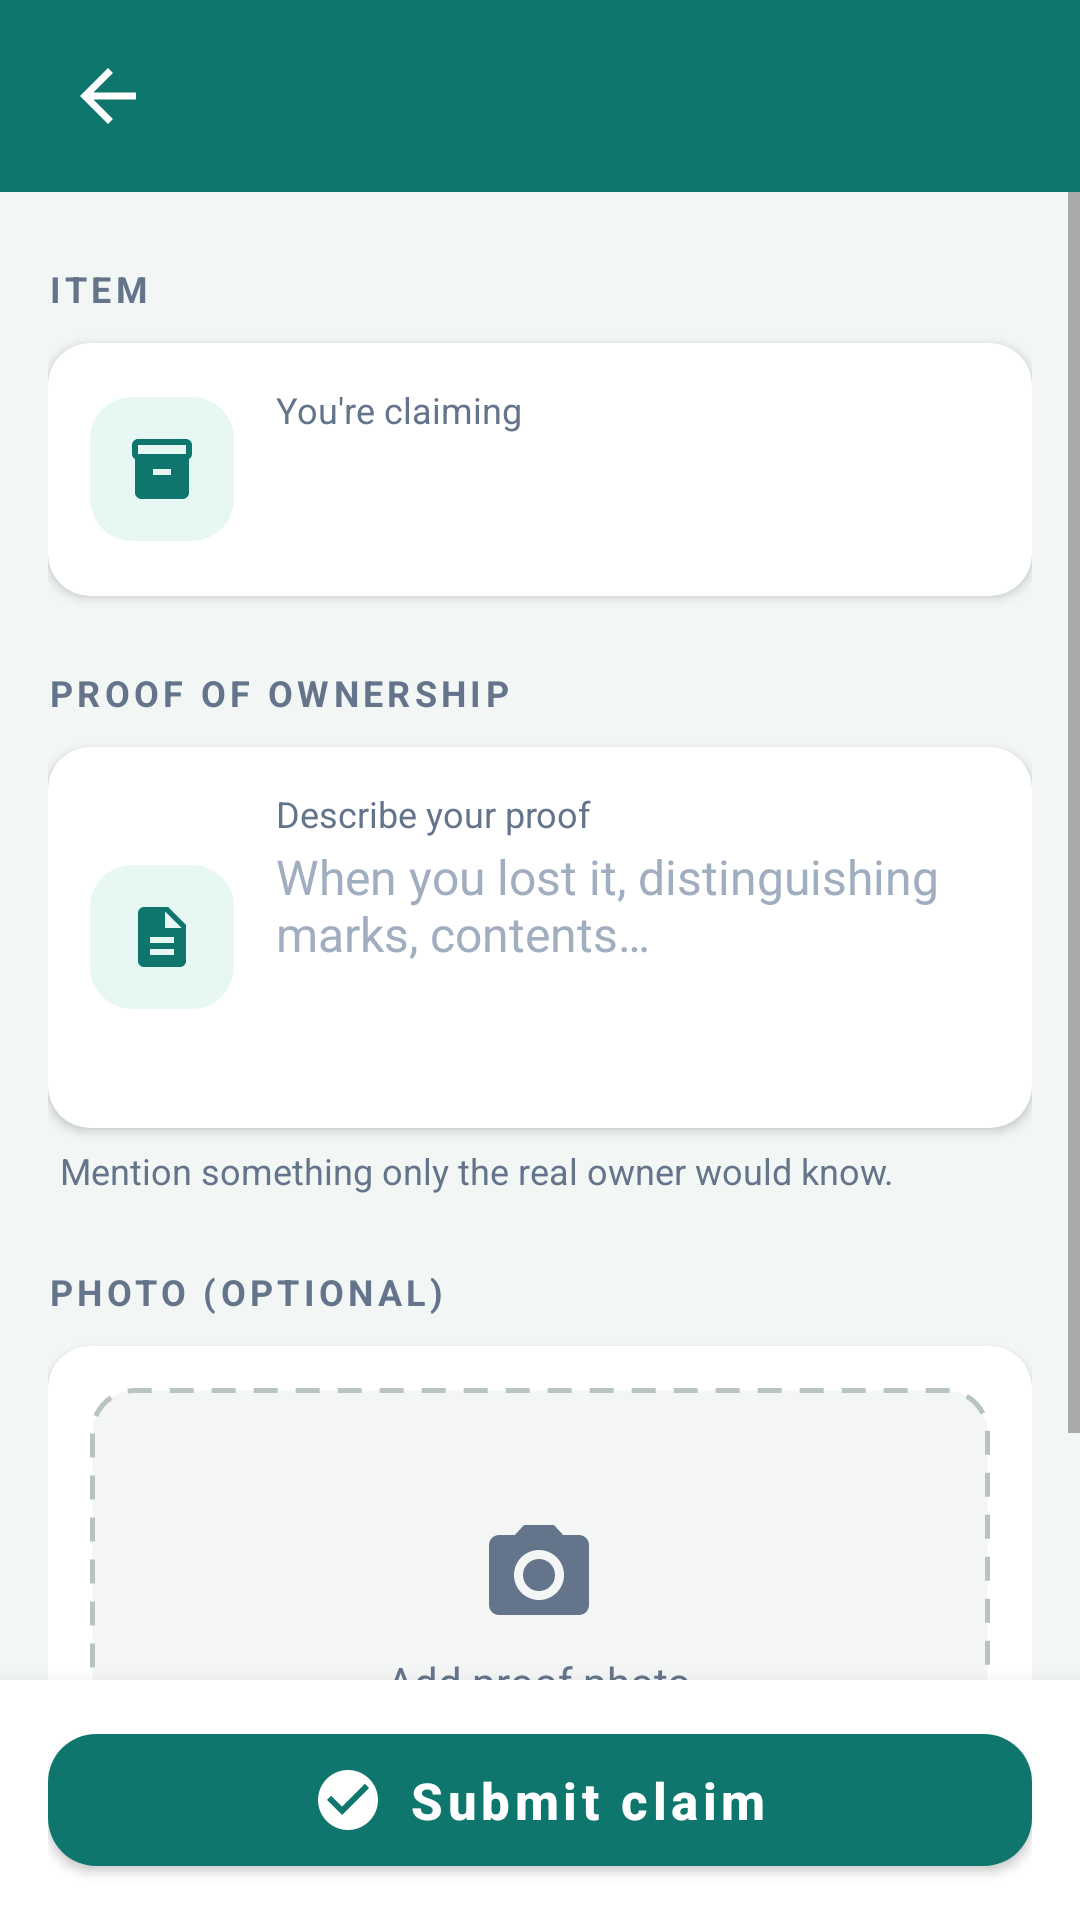

Icon bounding boxes for this 1080x1920 phone screenshot, format (x1, y1, x2, y2):
Back: (80, 68, 136, 124)
camera: (489, 1525, 589, 1615)
description: (90, 865, 234, 1009)
inventory: (90, 397, 234, 541)
